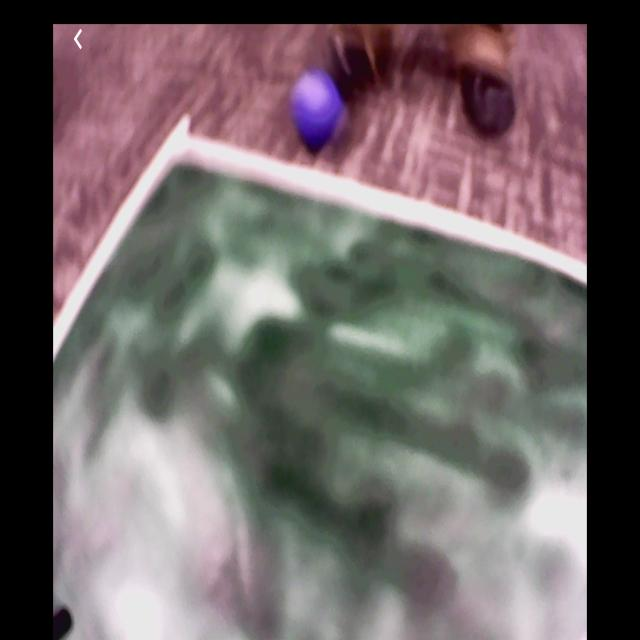ball: (293, 70, 342, 144)
